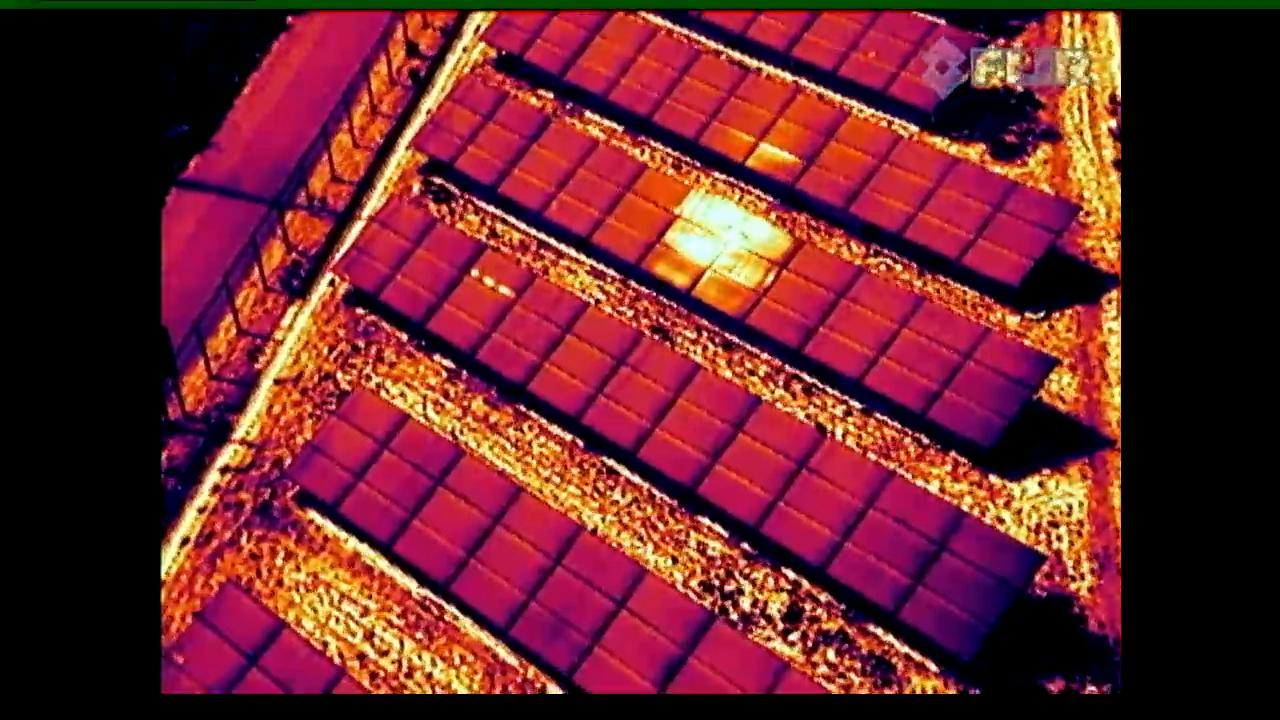hotspot: (417, 247, 532, 359)
